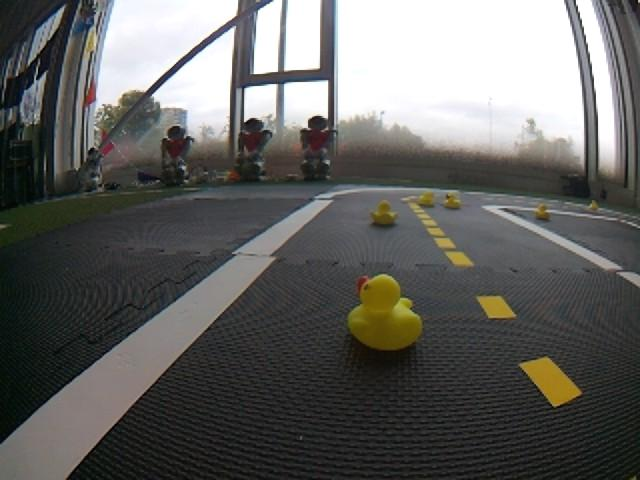Duckies: (348, 274, 424, 350), (370, 200, 397, 224), (443, 191, 461, 208), (533, 204, 550, 218), (418, 191, 436, 204), (588, 200, 598, 209)
